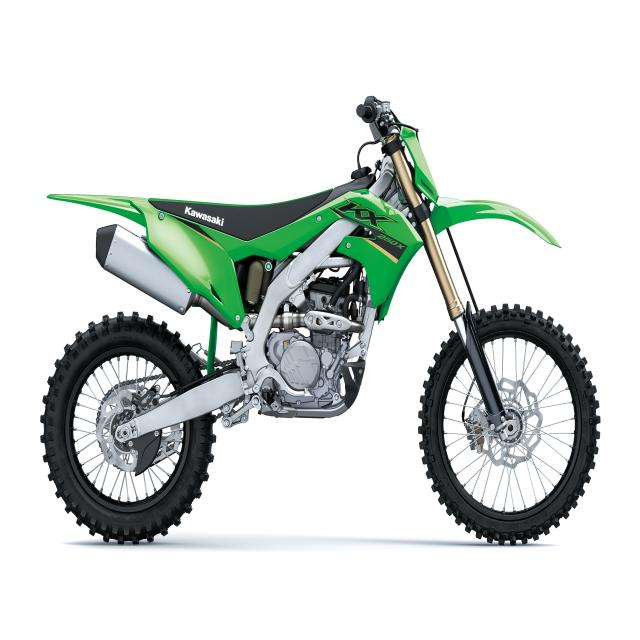Motorcycle: (40, 95, 598, 544)
